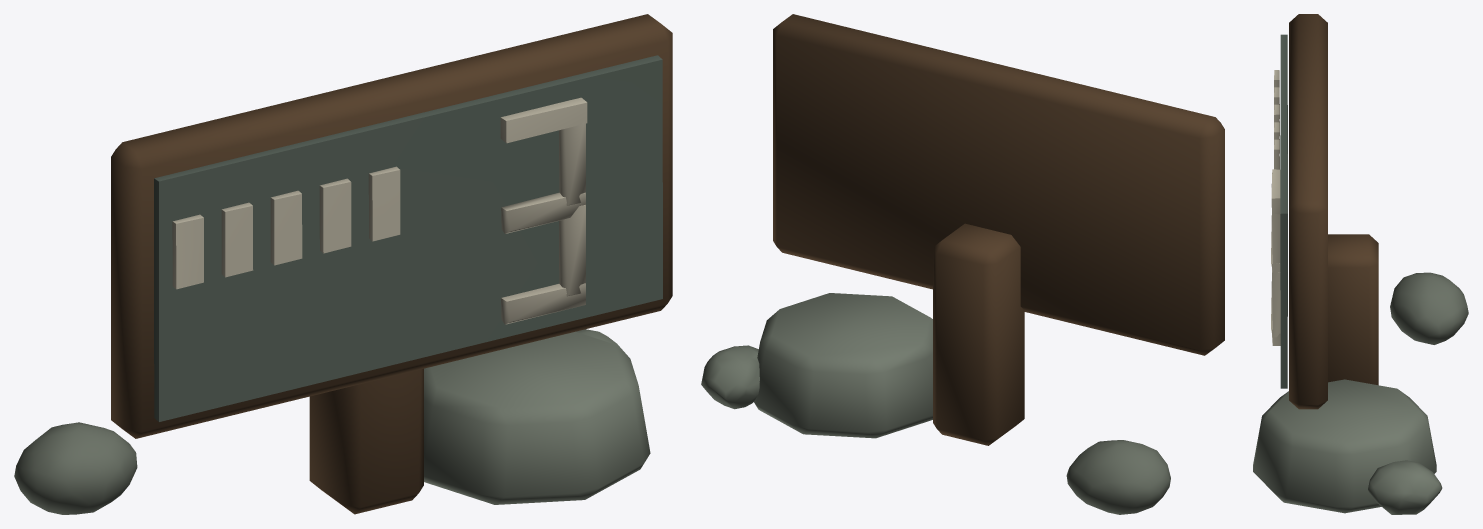
Rendered from bench_sign_a_lod1.glb.
3 views of the same model, side by side, from view 1: azimuth 30°, elevation 25°; view 2: azimuth 150°, elevation 25°; view 3: azimuth 270°, elevation 25° (orthographic). The views are drawn at different scales.
Parts seen in each view (by area): view 1: Surface.001; view 2: Surface.001; view 3: Surface.001.
Boxes of the visible parts, x1,y1,x2,y2 form: Surface.001: [14, 14, 672, 514]; Surface.001: [701, 14, 1224, 514]; Surface.001: [1253, 14, 1468, 514].
Size of the model in its own units: 2.04 by 1.43 by 0.8895.
